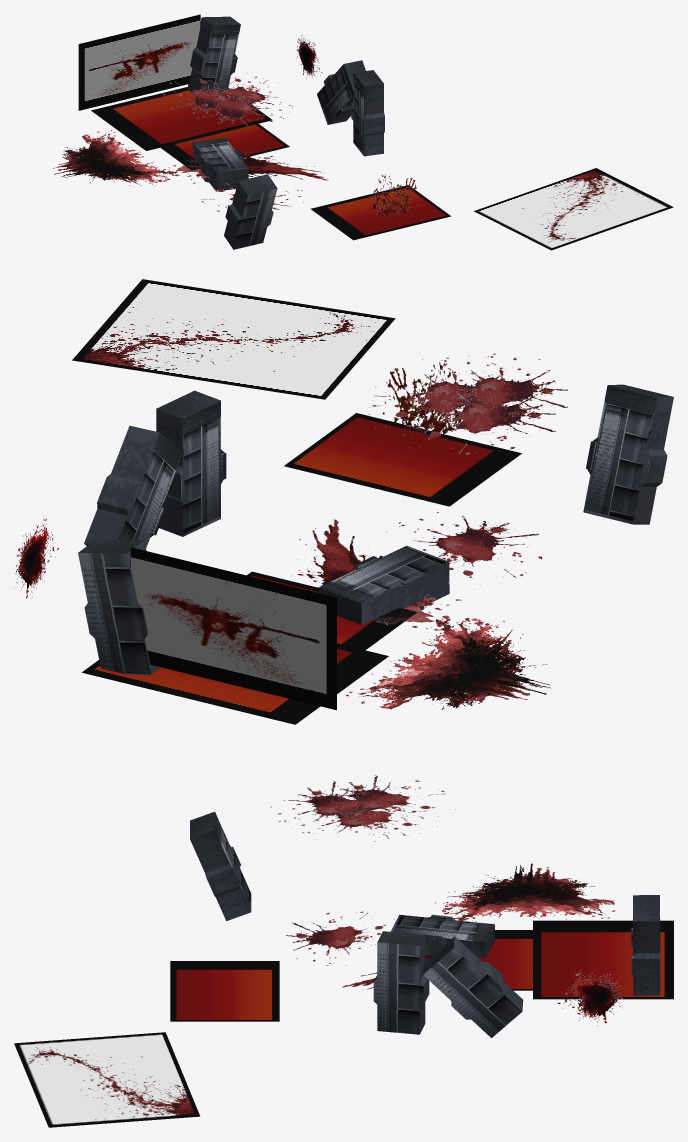
Rendered from map1 blood and cabinets.fbx.
3 views of the same model, one above another, from view 1: azimuth 30°, elevation 25°; view 2: azimuth 150°, elevation 25°; view 3: azimuth 270°, elevation 25° (orthographic). The views are drawn at different scales.
Visible parts, largest first — view 1: image-from-rawpixel-id-16497883-png.015, image-from-rawpixel-id-16497883-png.007, image-from-rawpixel-id-16497883-png.008, image-from-rawpixel-id-16497883-png.013, image-from-rawpixel-id-16497883-png.014, Cube.387, Cube.411, image-from-rawpixel-id-16497883-png.012, Cube.390, Cube.389, Cube.427, image-from-rawpixel-id-16497883-png.011 (+9 smaller); view 2: image-from-rawpixel-id-16497883-png.015, image-from-rawpixel-id-16497883-png.007, image-from-rawpixel-id-16497883-png.013, image-from-rawpixel-id-16497883-png.014, Cube.390, image-from-rawpixel-id-16497883-png.008, Cube.388, Cube.413, Cube.387, Cube.411, Cube.427, Cube.412 (+10 smaller); view 3: image-from-rawpixel-id-16497883-png.015, image-from-rawpixel-id-16497883-png.008, image-from-rawpixel-id-16497883-png.013, Cube.413, Cube.411, image-from-rawpixel-id-16497883-png.014, Cube.387, Cube.390, image-from-rawpixel-id-16497883-png.012, image-from-rawpixel-id-16497883-png.004, image-from-rawpixel-id-16497883-png.019, image-from-rawpixel-id-16497883-png.005 (+4 smaller).
Part boxes in pixels (x1,y1,x2,y2): image-from-rawpixel-id-16497883-png.015: (474, 168, 673, 250); image-from-rawpixel-id-16497883-png.007: (78, 14, 200, 110); image-from-rawpixel-id-16497883-png.008: (91, 87, 272, 150); image-from-rawpixel-id-16497883-png.013: (310, 185, 451, 240); image-from-rawpixel-id-16497883-png.014: (53, 130, 177, 186); Cube.387: (224, 174, 277, 249); Cube.411: (351, 70, 384, 156); image-from-rawpixel-id-16497883-png.012: (160, 124, 289, 170); Cube.390: (187, 16, 240, 92); Cube.389: (200, 34, 237, 93); Cube.427: (192, 137, 248, 191); image-from-rawpixel-id-16497883-png.011: (165, 152, 328, 183); image-from-rawpixel-id-16497883-png.015: (72, 279, 395, 399); image-from-rawpixel-id-16497883-png.007: (130, 547, 336, 710); image-from-rawpixel-id-16497883-png.013: (284, 413, 521, 506); image-from-rawpixel-id-16497883-png.014: (346, 617, 550, 709); Cube.390: (78, 540, 160, 674); image-from-rawpixel-id-16497883-png.008: (82, 643, 388, 724); Cube.388: (585, 403, 652, 520); Cube.413: (84, 425, 181, 547); Cube.387: (583, 384, 673, 524); Cube.411: (156, 390, 226, 536); Cube.427: (319, 545, 449, 624); Cube.412: (183, 418, 219, 532); image-from-rawpixel-id-16497883-png.015: (14, 1032, 200, 1127); image-from-rawpixel-id-16497883-png.008: (533, 920, 673, 999); image-from-rawpixel-id-16497883-png.013: (170, 961, 279, 1021); Cube.413: (423, 936, 523, 1037); Cube.411: (373, 931, 429, 1034); image-from-rawpixel-id-16497883-png.014: (435, 863, 615, 920); Cube.387: (190, 811, 251, 920); Cube.390: (631, 895, 660, 995); image-from-rawpixel-id-16497883-png.012: (478, 930, 532, 990); image-from-rawpixel-id-16497883-png.004: (557, 970, 624, 1026); image-from-rawpixel-id-16497883-png.019: (312, 775, 455, 824); image-from-rawpixel-id-16497883-png.005: (271, 781, 413, 830).
Bounding box in the file's own units: 245 × 55.55 × 254.
